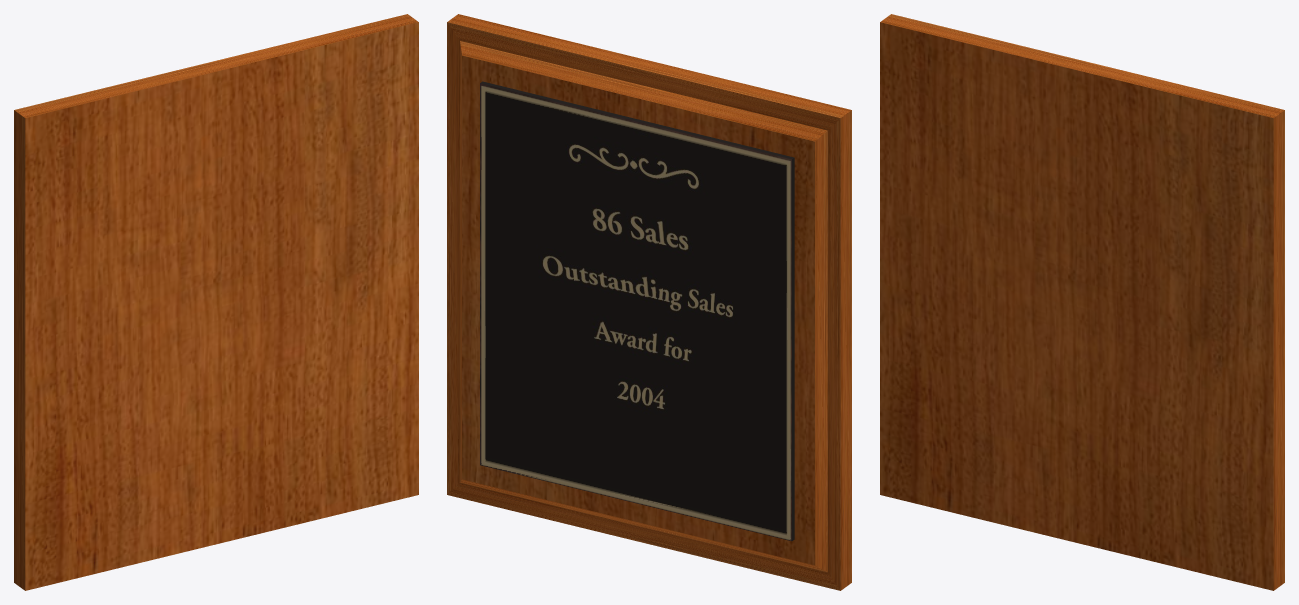
Rendered from Plaque.fbx.
The picture shows the model from 3 angles, left to right: view 1: azimuth 30°, elevation 25°; view 2: azimuth 150°, elevation 25°; view 3: azimuth 330°, elevation 25°; orthographic projection.
Parts seen in each view (by area): view 1: Cube; view 2: Cube.001, Cube; view 3: Cube.
Boxes of the visible parts, x1,y1,x2,y2 form: Cube: (14,14,418,590); Cube.001: (480,81,794,541); Cube: (447,14,851,590); Cube: (880,14,1284,590).
Bounding box in the file's own units: 0.7483 × 0.8589 × 0.0627.
2 materials, 2 textured.
